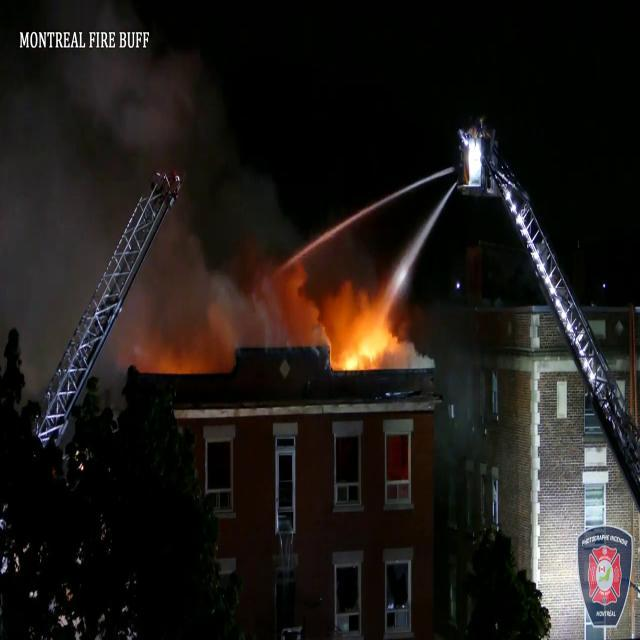Fire: (329, 314, 402, 374)
Smoke: (0, 0, 288, 376)
